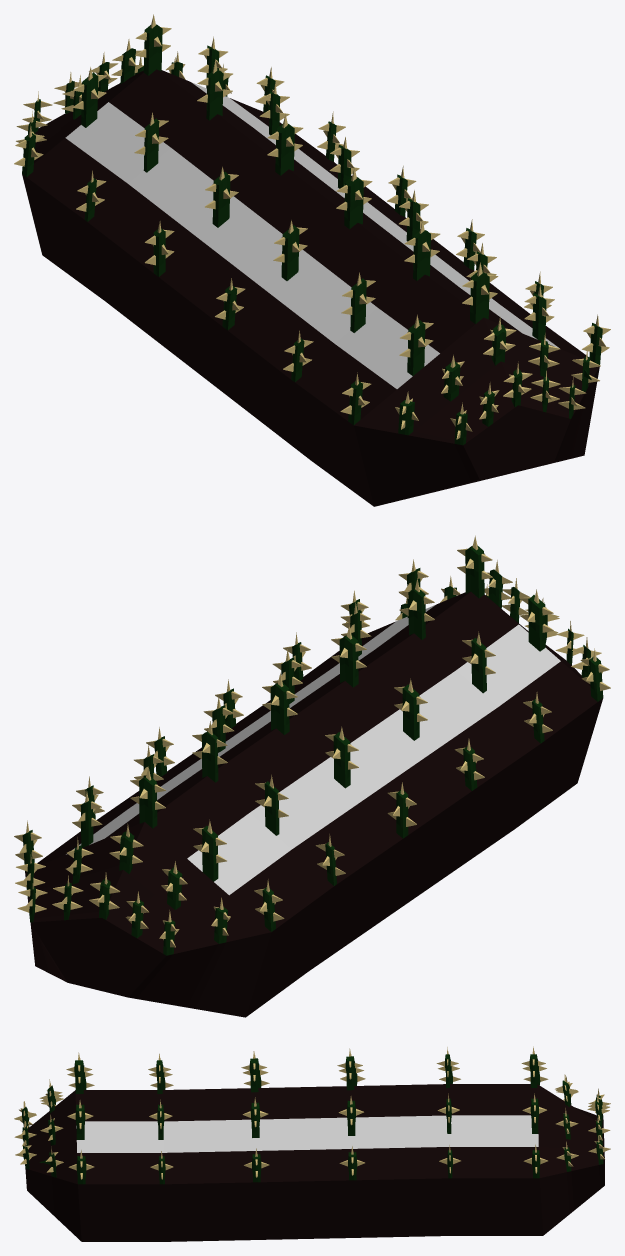
Rendered from Caterpillar.obj.
The picture shows the model from 3 angles, top to bottom: view 1: azimuth 30°, elevation 25°; view 2: azimuth 150°, elevation 25°; view 3: azimuth 270°, elevation 25°; orthographic projection. The views are drawn at different scales.
Visible parts, largest first — view 1: Catapillar; view 2: Catapillar; view 3: Catapillar.
Part boxes in pixels (x1,y1,x2,y2): Catapillar: [14, 14, 610, 506]; Catapillar: [14, 535, 610, 1017]; Catapillar: [14, 1046, 610, 1241].
Bounding box in the file's own units: 0.1068 × 0.0865 × 0.2928.
